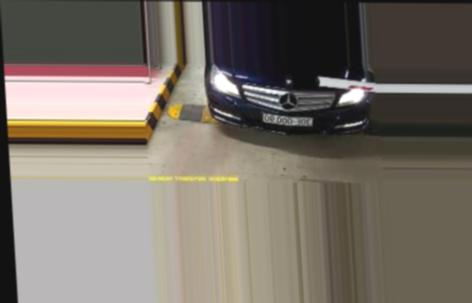License_Plate: (263, 113, 314, 126)
